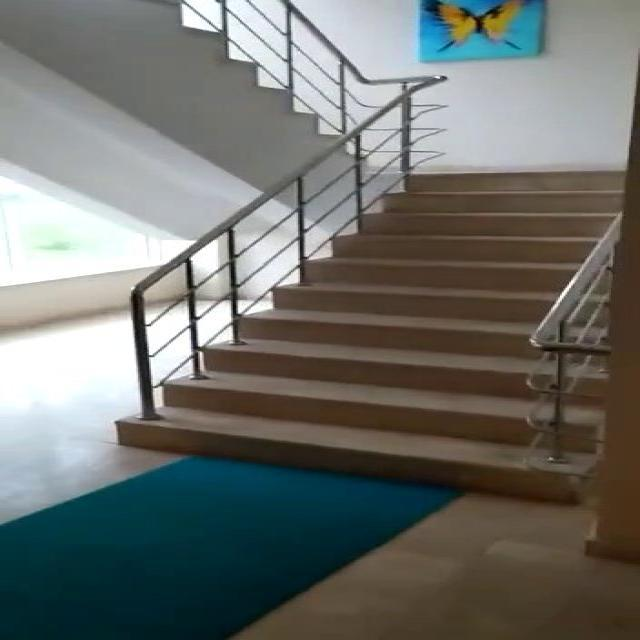stair: (106, 161, 629, 488)
